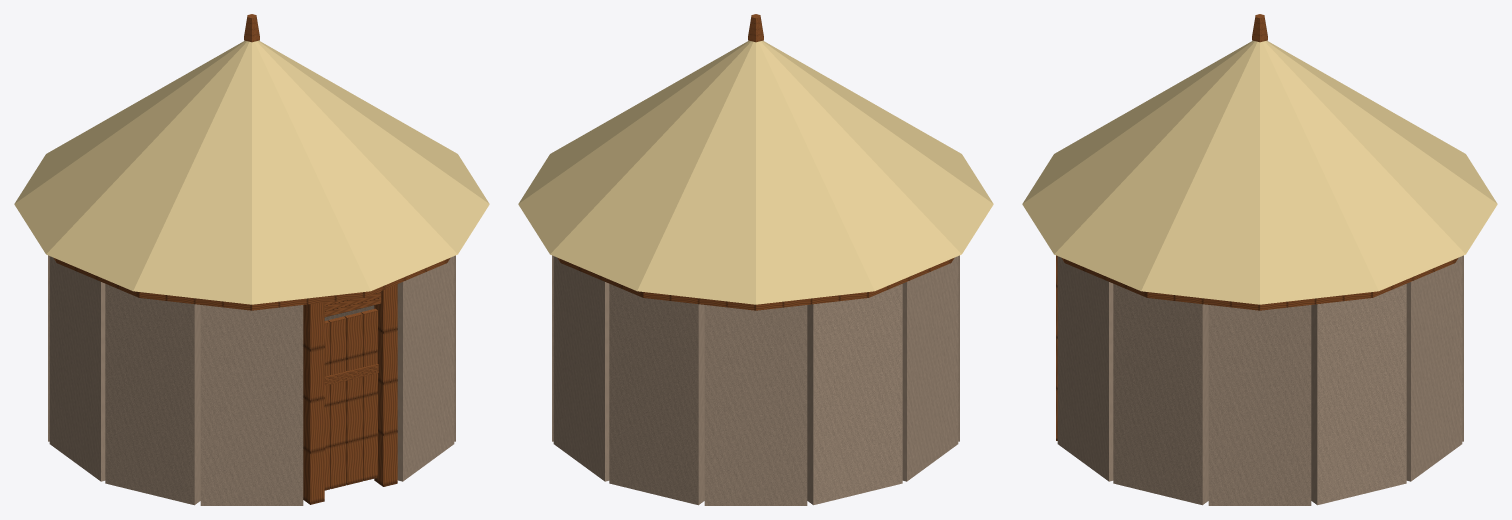
Rendered from safari-camp-and-bush-lodge-thatched-rondavel-small-a302adc8__37674.glb.
The picture shows the model from 3 angles, left to right: view 1: azimuth 30°, elevation 25°; view 2: azimuth 150°, elevation 25°; view 3: azimuth 270°, elevation 25°; orthographic projection.
Visible parts, largest first — view 1: thatched-rondavel-small-thatch, thatched-rondavel-small-earth, thatched-rondavel-small-timber, door; view 2: thatched-rondavel-small-thatch, thatched-rondavel-small-earth, thatched-rondavel-small-timber; view 3: thatched-rondavel-small-thatch, thatched-rondavel-small-earth, thatched-rondavel-small-timber.
Part boxes in pixels (x1,y1,x2,y2): thatched-rondavel-small-thatch: (14,40,489,304); thatched-rondavel-small-earth: (48,255,455,505); thatched-rondavel-small-timber: (53,14,450,504); door: (324,308,378,490); thatched-rondavel-small-thatch: (518,40,993,304); thatched-rondavel-small-earth: (552,255,959,505); thatched-rondavel-small-timber: (557,14,954,310); thatched-rondavel-small-thatch: (1022,40,1497,304); thatched-rondavel-small-earth: (1057,255,1463,505); thatched-rondavel-small-timber: (1056,14,1458,440).
Bounding box in the file's own units: 4.64 × 4.34 × 4.64.
Materials: 3 (2 with a texture image).
